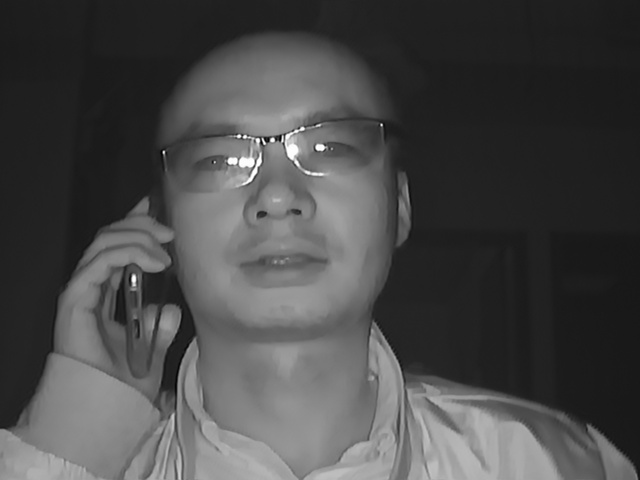hand: (55, 199, 190, 386)
